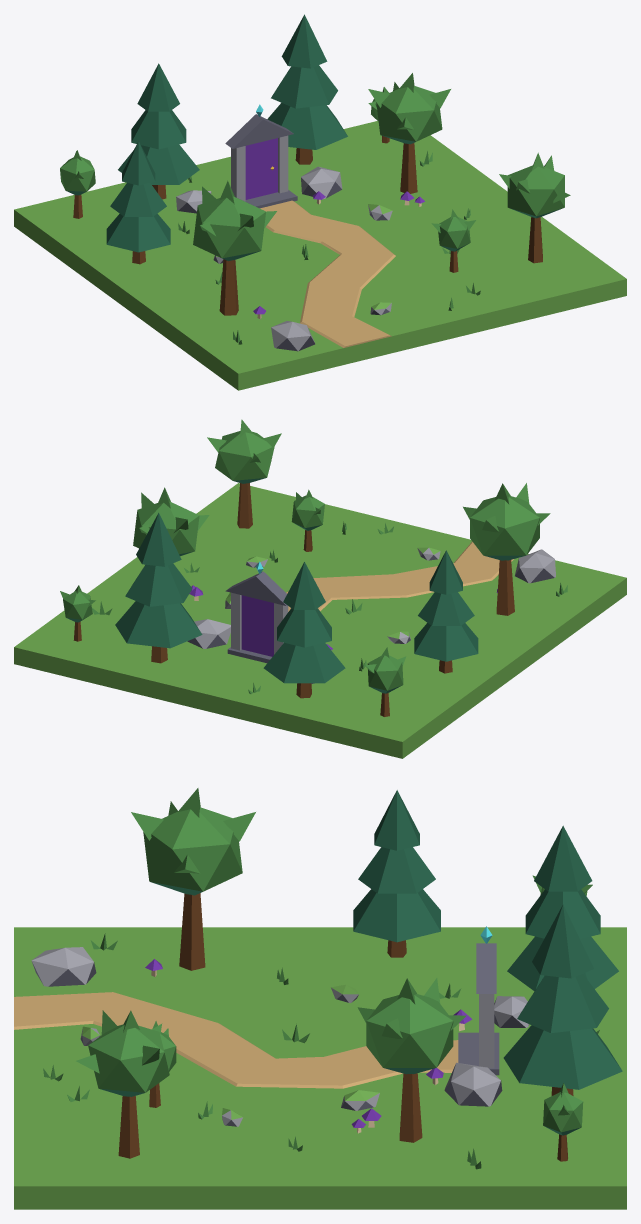
The model's file is wizard-glade.glb.
3 views of the same model, one above another, from view 1: azimuth 30°, elevation 25°; view 2: azimuth 150°, elevation 25°; view 3: azimuth 270°, elevation 25° (orthographic). The views are drawn at different scales.
Parts seen in each view (by area): view 1: Ground, Path, TreePine_2, TreeRound_2, WizardDoor, TreePine_1, TreePine_3, TreeRound_1, TreeRound_3, TreeYoung_2, TreeYoung_1, RockLarge_2 (+2 smaller); view 2: Ground, TreePine_2, TreePine_1, TreeRound_2, TreePine_3, WizardDoor, Path, TreeRound_3, TreeRound_1, TreeYoung_2, TreeYoung_1, RockLarge_2 (+2 smaller); view 3: Ground, Path, TreePine_2, TreeRound_2, TreePine_3, TreeRound_1, TreePine_1, TreeRound_3, WizardDoor, RockLarge_2, RockLarge_1, TreeYoung_3 (+3 smaller).
Boxes of the visible parts, x1,y1,x2,y2 form: Ground: [14, 121, 626, 390]; Path: [260, 200, 395, 347]; TreePine_2: [267, 14, 347, 164]; TreeRound_2: [193, 180, 276, 315]; WizardDoor: [225, 104, 297, 208]; TreePine_1: [118, 63, 199, 199]; TreePine_3: [106, 141, 170, 264]; TreeRound_1: [368, 73, 450, 193]; TreeRound_3: [499, 152, 570, 263]; TreeYoung_2: [60, 150, 95, 218]; TreeYoung_1: [431, 209, 475, 272]; RockLarge_2: [271, 321, 315, 351]; Ground: [14, 483, 626, 758]; TreePine_2: [115, 512, 202, 663]; TreePine_1: [263, 562, 345, 698]; TreeRound_2: [463, 483, 550, 615]; TreePine_3: [414, 550, 478, 673]; WizardDoor: [225, 561, 288, 663]; Path: [286, 541, 513, 611]; TreeRound_3: [207, 419, 281, 528]; TreeRound_1: [133, 487, 209, 556]; TreeYoung_2: [365, 647, 406, 716]; TreeYoung_1: [291, 489, 324, 551]; RockLarge_2: [515, 549, 555, 583]; Ground: [14, 927, 626, 1209]; Path: [14, 992, 458, 1088]; TreePine_2: [503, 904, 622, 1095]; TreeRound_2: [131, 788, 255, 970]; TreePine_3: [353, 790, 440, 957]; TreeRound_1: [357, 978, 466, 1142]; TreePine_1: [507, 825, 618, 991]; TreeRound_3: [76, 1010, 169, 1158]; WizardDoor: [458, 926, 499, 1075]; RockLarge_2: [31, 947, 96, 986]; RockLarge_1: [444, 1062, 502, 1106]; TreeYoung_3: [543, 1083, 583, 1161].
Bounding box in the file's own units: 24 × 9.69 × 24.
Materials: 1 (1 with a texture image).
